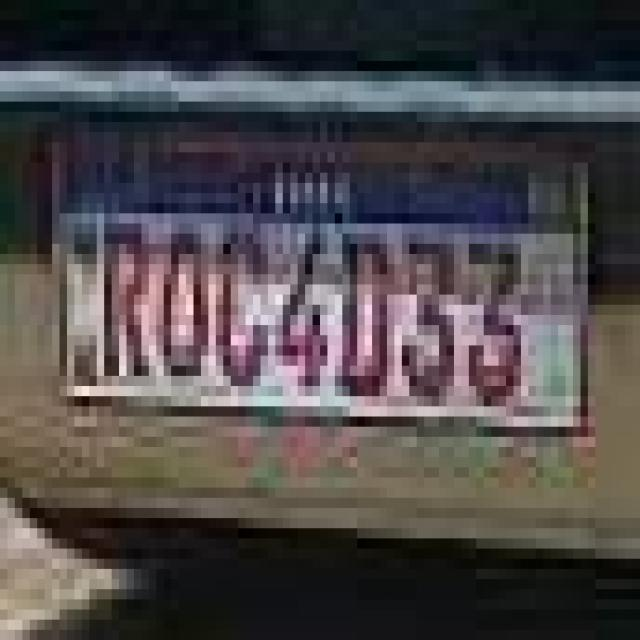3: (404, 232, 463, 408), (468, 224, 524, 405)
4: (286, 221, 334, 397)
C: (216, 218, 278, 384)
D: (338, 220, 393, 414)
O: (159, 222, 208, 385)
R: (100, 220, 152, 380)
